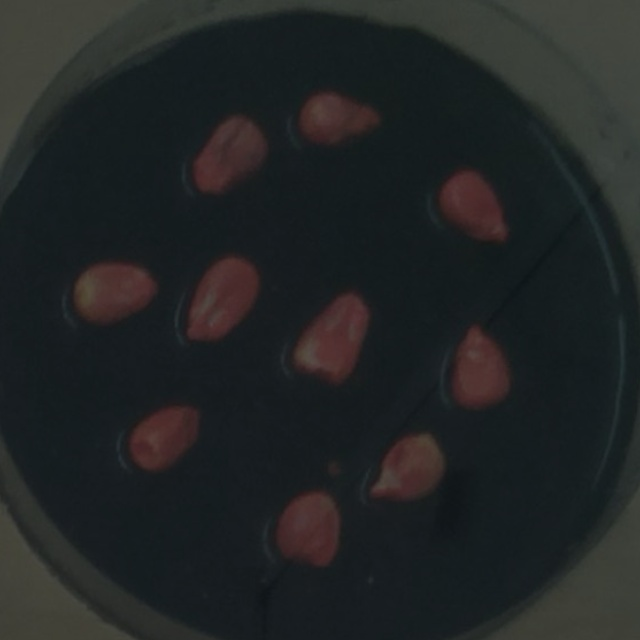Zea mays: (285, 285, 379, 396), (176, 248, 268, 348), (183, 107, 275, 202), (429, 160, 516, 253), (362, 425, 455, 510), (441, 318, 519, 417), (66, 256, 163, 332), (267, 483, 346, 576), (121, 398, 209, 480), (292, 86, 390, 159)
